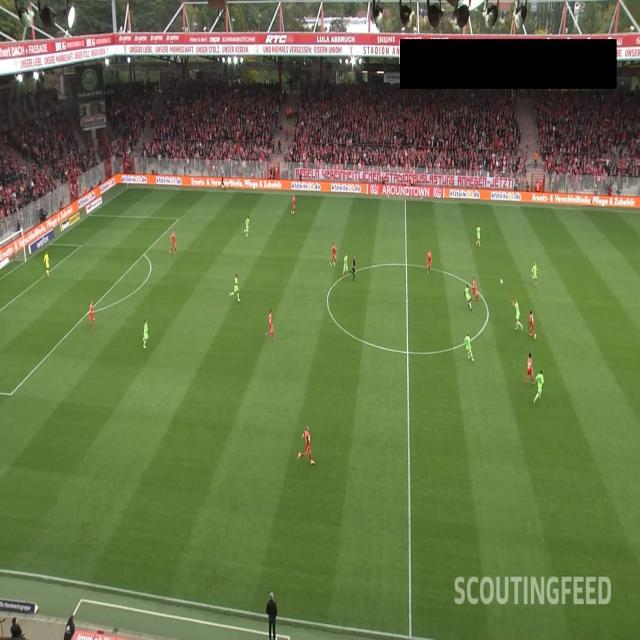ball: (499, 278, 504, 285)
